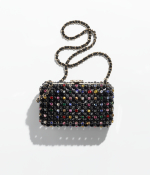channel: (32, 74, 125, 132), (55, 47, 70, 83)
